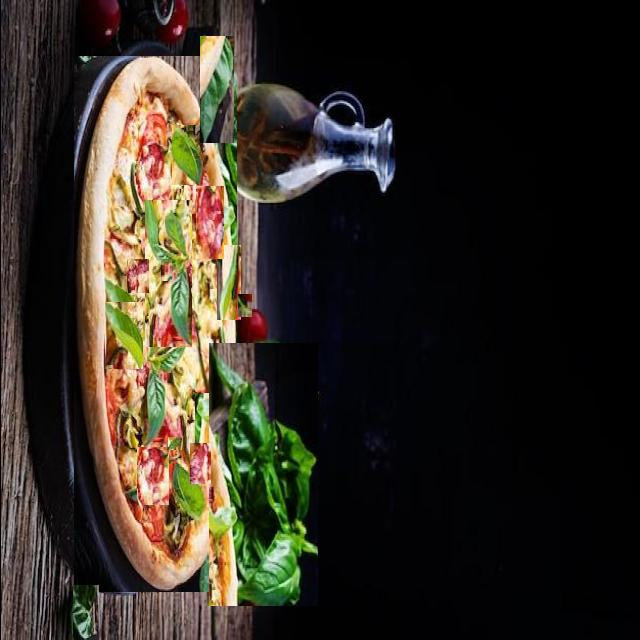basil: (206, 343, 316, 606), (142, 200, 190, 347), (199, 36, 233, 143), (104, 302, 142, 369), (194, 393, 236, 447), (171, 125, 202, 185), (216, 245, 240, 320), (72, 585, 98, 640), (237, 294, 251, 317), (124, 148, 144, 164), (167, 437, 181, 450)
pepperoni: (195, 186, 223, 259), (136, 447, 168, 505), (189, 443, 209, 484), (126, 259, 147, 293), (164, 209, 184, 237), (160, 259, 170, 281)
pizza: (73, 56, 236, 592)
